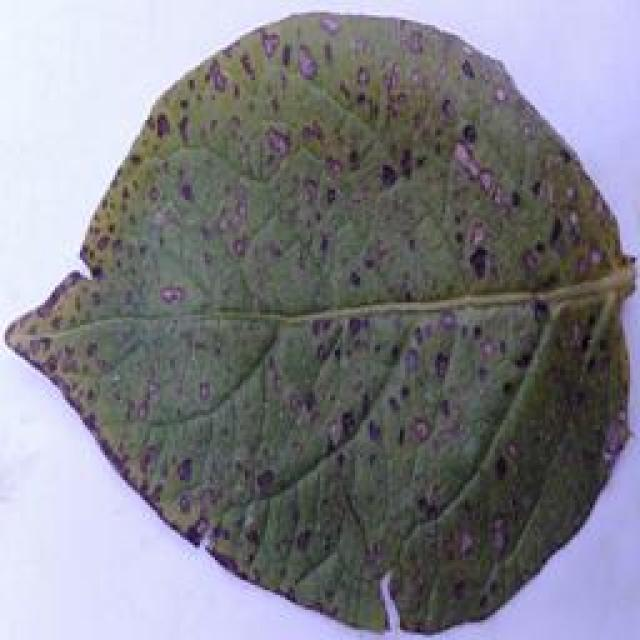Potato_Early_Blight: (5, 6, 636, 630)
